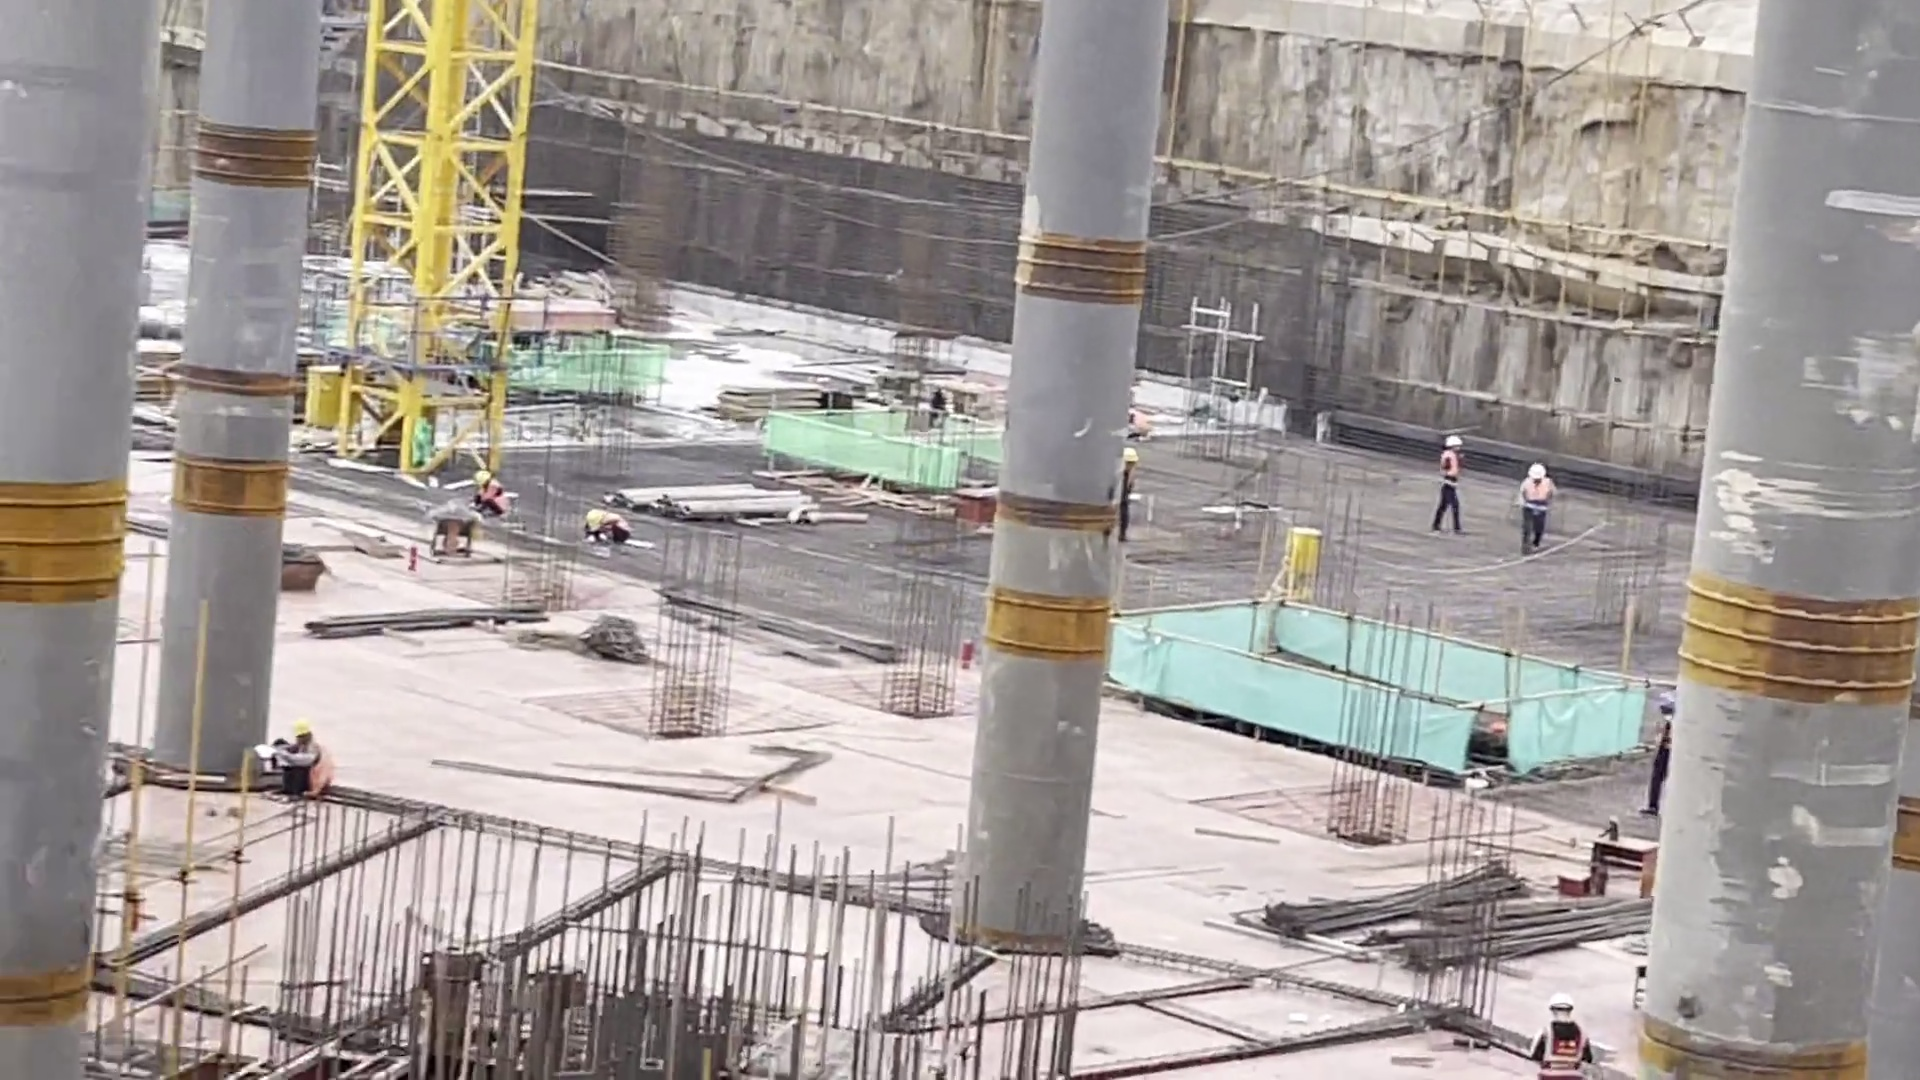helmet: (586, 508, 606, 531), (1528, 462, 1548, 481), (474, 469, 491, 487), (1444, 433, 1463, 447), (1123, 447, 1138, 466)
person: (253, 717, 333, 793), (1528, 996, 1593, 1080), (1428, 431, 1465, 540), (1520, 460, 1558, 560), (579, 505, 632, 552), (476, 468, 509, 519), (1122, 442, 1139, 541)
vest: (1535, 1019, 1584, 1080), (1522, 476, 1553, 512), (1440, 450, 1460, 487)
